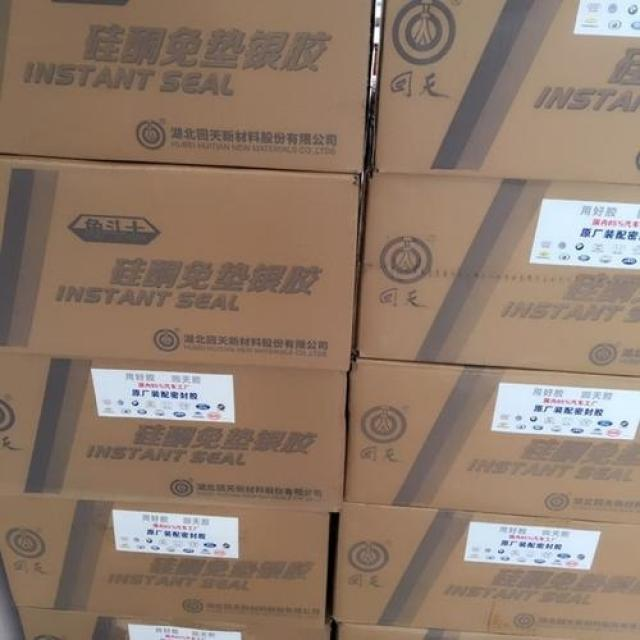box: (0, 154, 366, 374), (0, 0, 378, 174), (352, 174, 639, 378), (0, 351, 351, 512), (343, 357, 639, 525), (375, 0, 639, 186), (0, 495, 333, 625), (329, 502, 640, 640), (15, 605, 330, 640), (329, 622, 634, 640)
